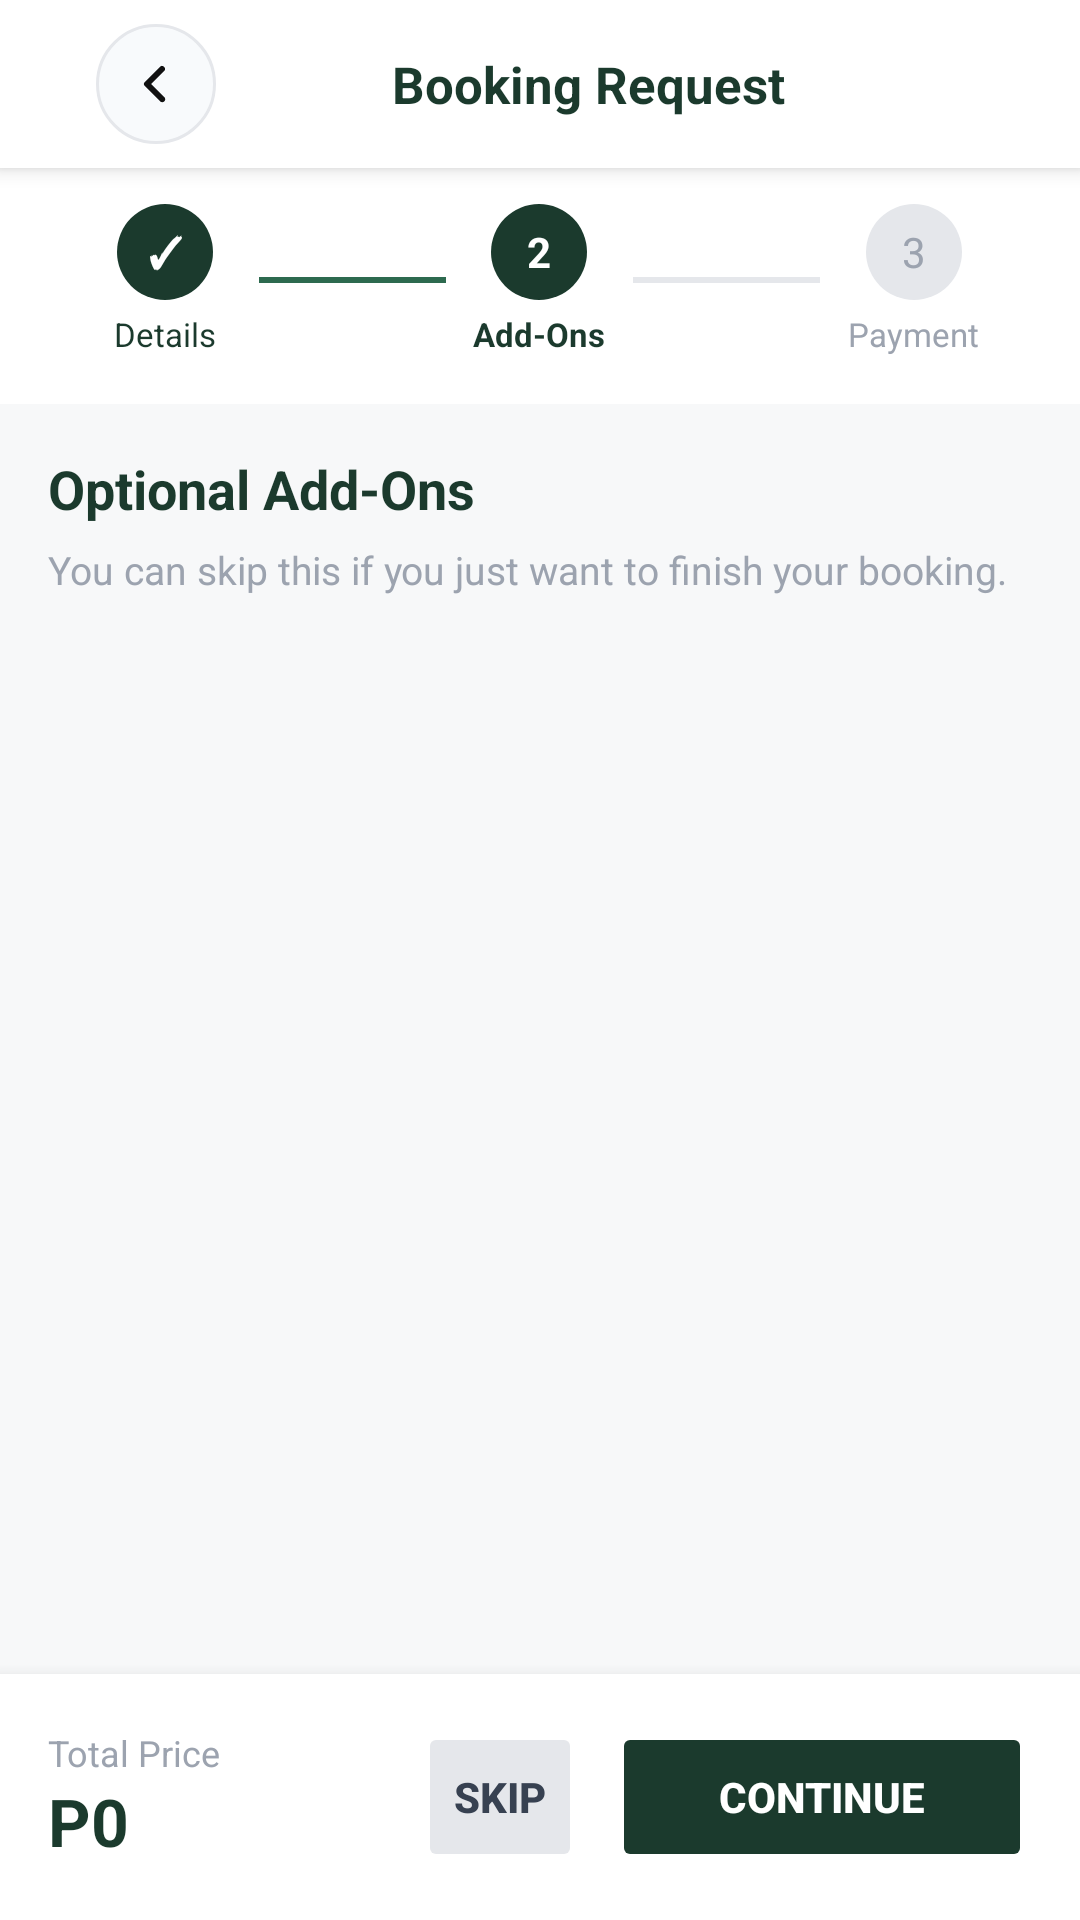

Icon bounding boxes for this 1080×1920 phone screenshot, format (x1, y1, x2, y2):
Back: (96, 24, 216, 144)
